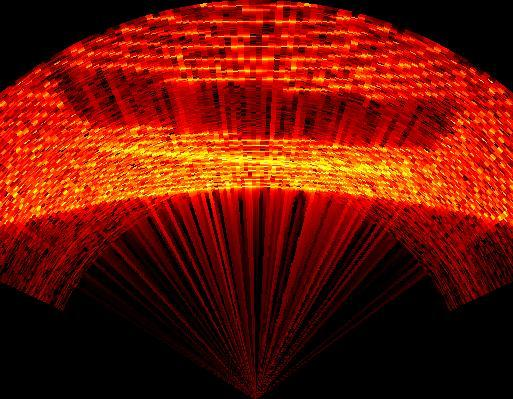pipe: (53, 71, 462, 152)
